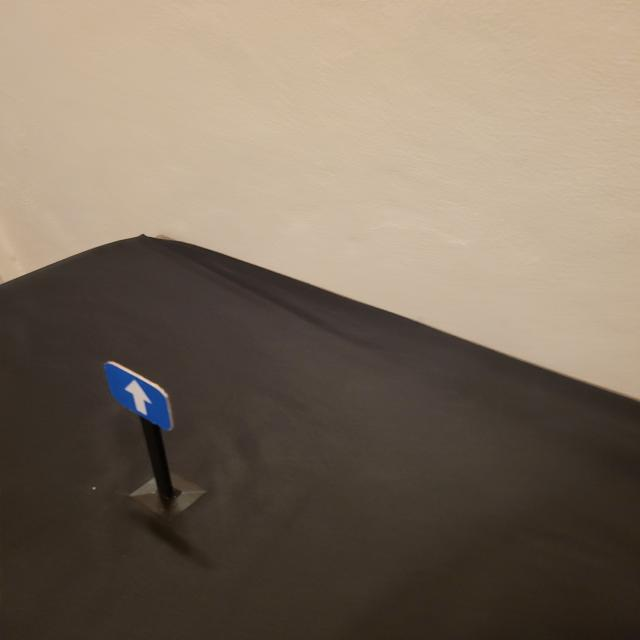one_way: (104, 361, 175, 432)
